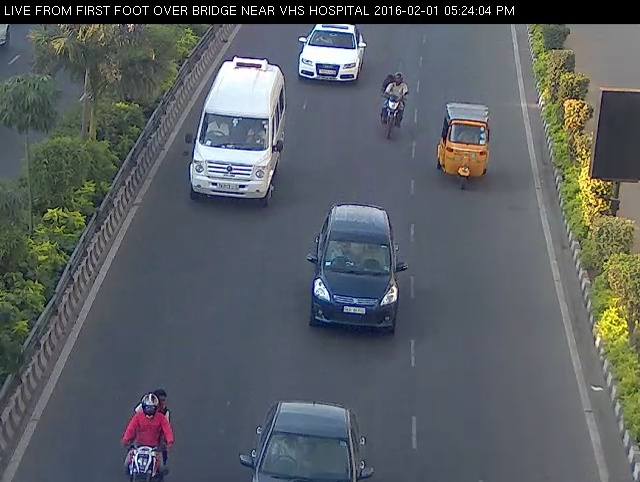Auto: (431, 98, 503, 197)
Bus: (180, 49, 291, 216)
Car: (300, 194, 415, 348), (232, 388, 391, 482), (289, 18, 376, 91)
Person: (115, 385, 187, 482), (372, 62, 409, 147)
